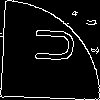U: (25, 25, 75, 65)
